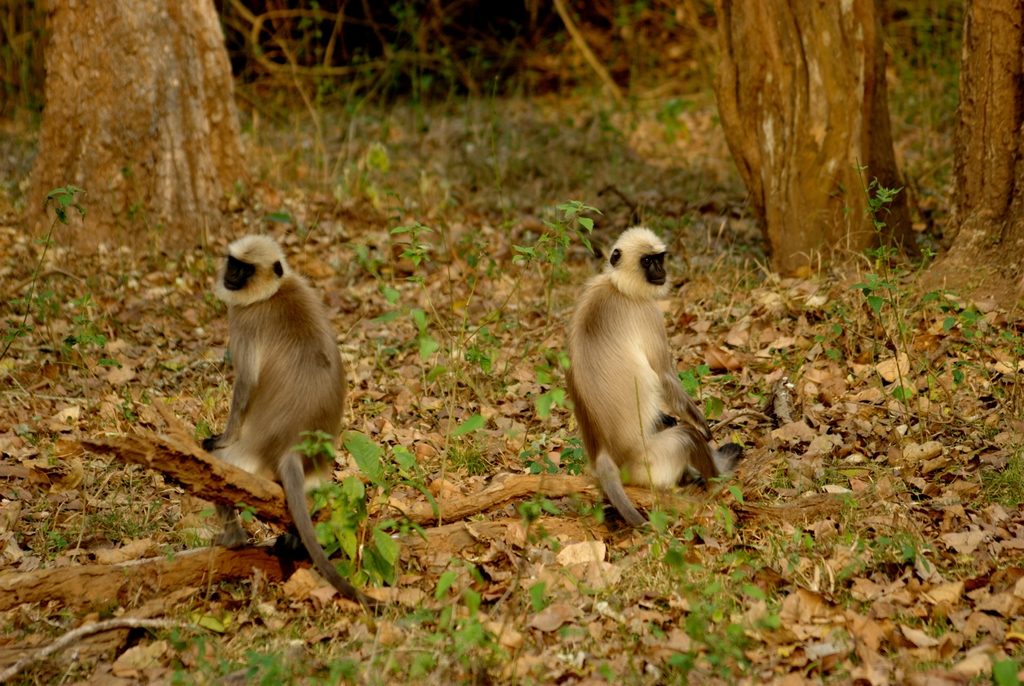Tree: (717, 0, 1024, 279), (25, 0, 253, 257)
